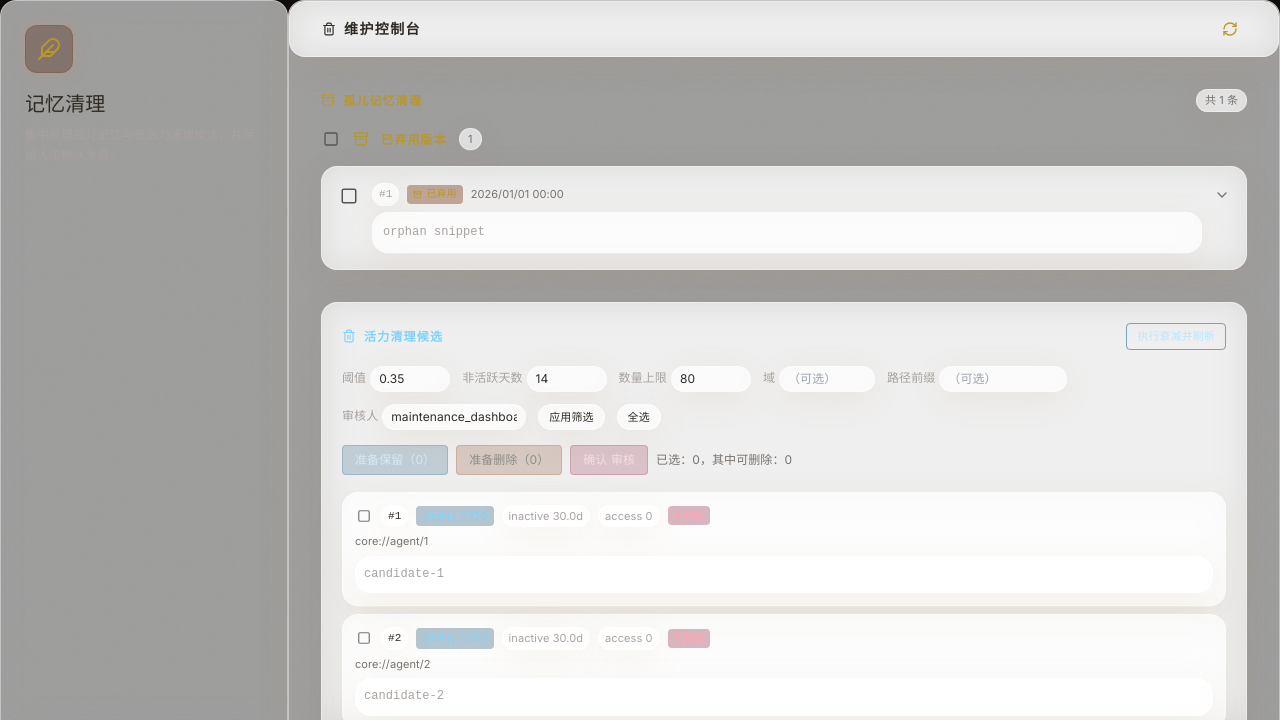
MaintenancePage › shows translated error when vitality prepare selection exceeds limit
The image size is (1280, 720).
Expected: the text "candidate-1" is shown, [355, 556, 1213, 593]
Expected: the field labelled "路径前缀" is shown, [939, 366, 1067, 392]
Click the button "全选" at (639, 416), box [617, 404, 661, 430]
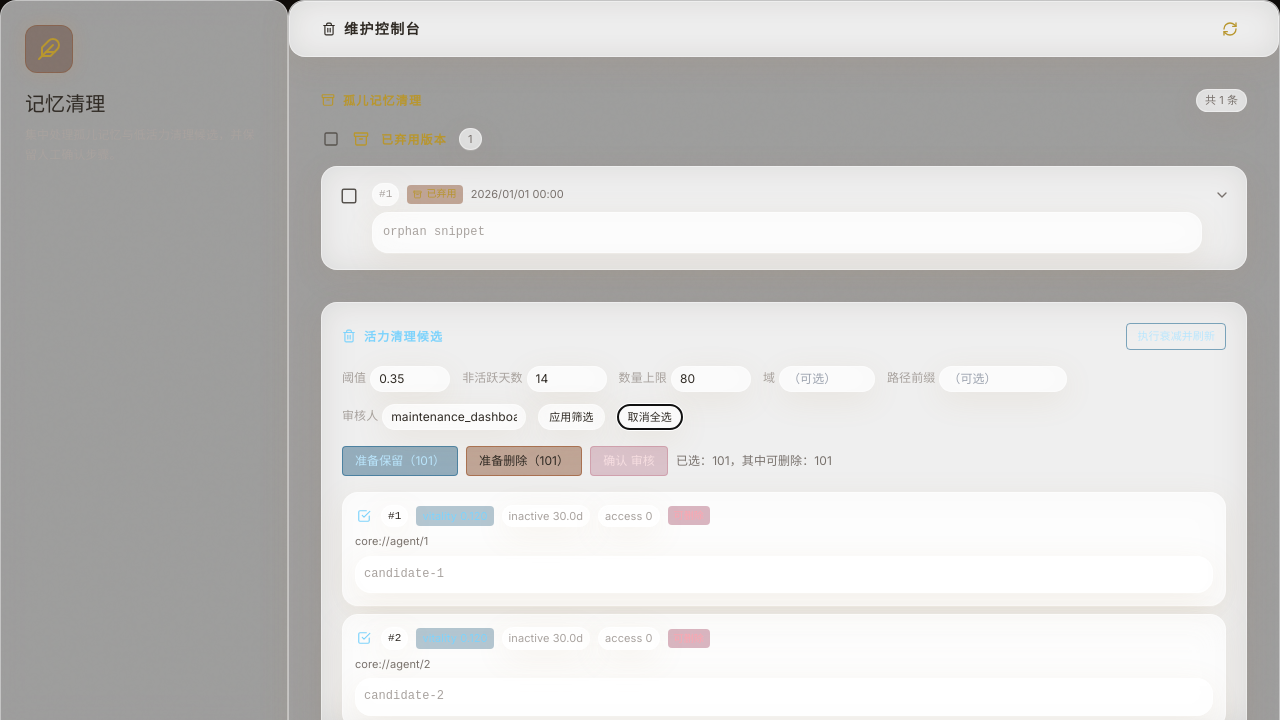
Click the button "准备删除（101）" at (524, 460), box [466, 446, 582, 476]
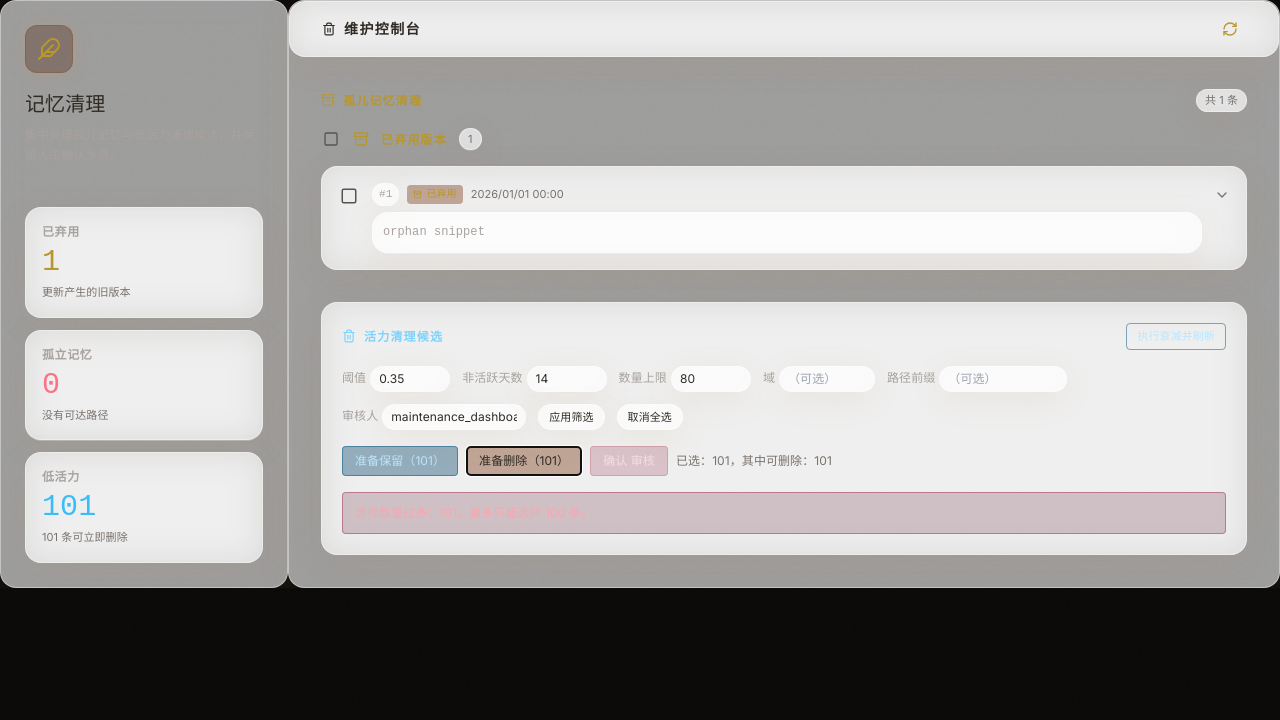
Result: the text "选择数量过多：101。最多只能选择 100 条。" is shown at [342, 492, 1226, 534]
